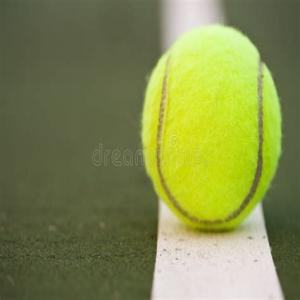Tennis: (138, 22, 284, 238)
